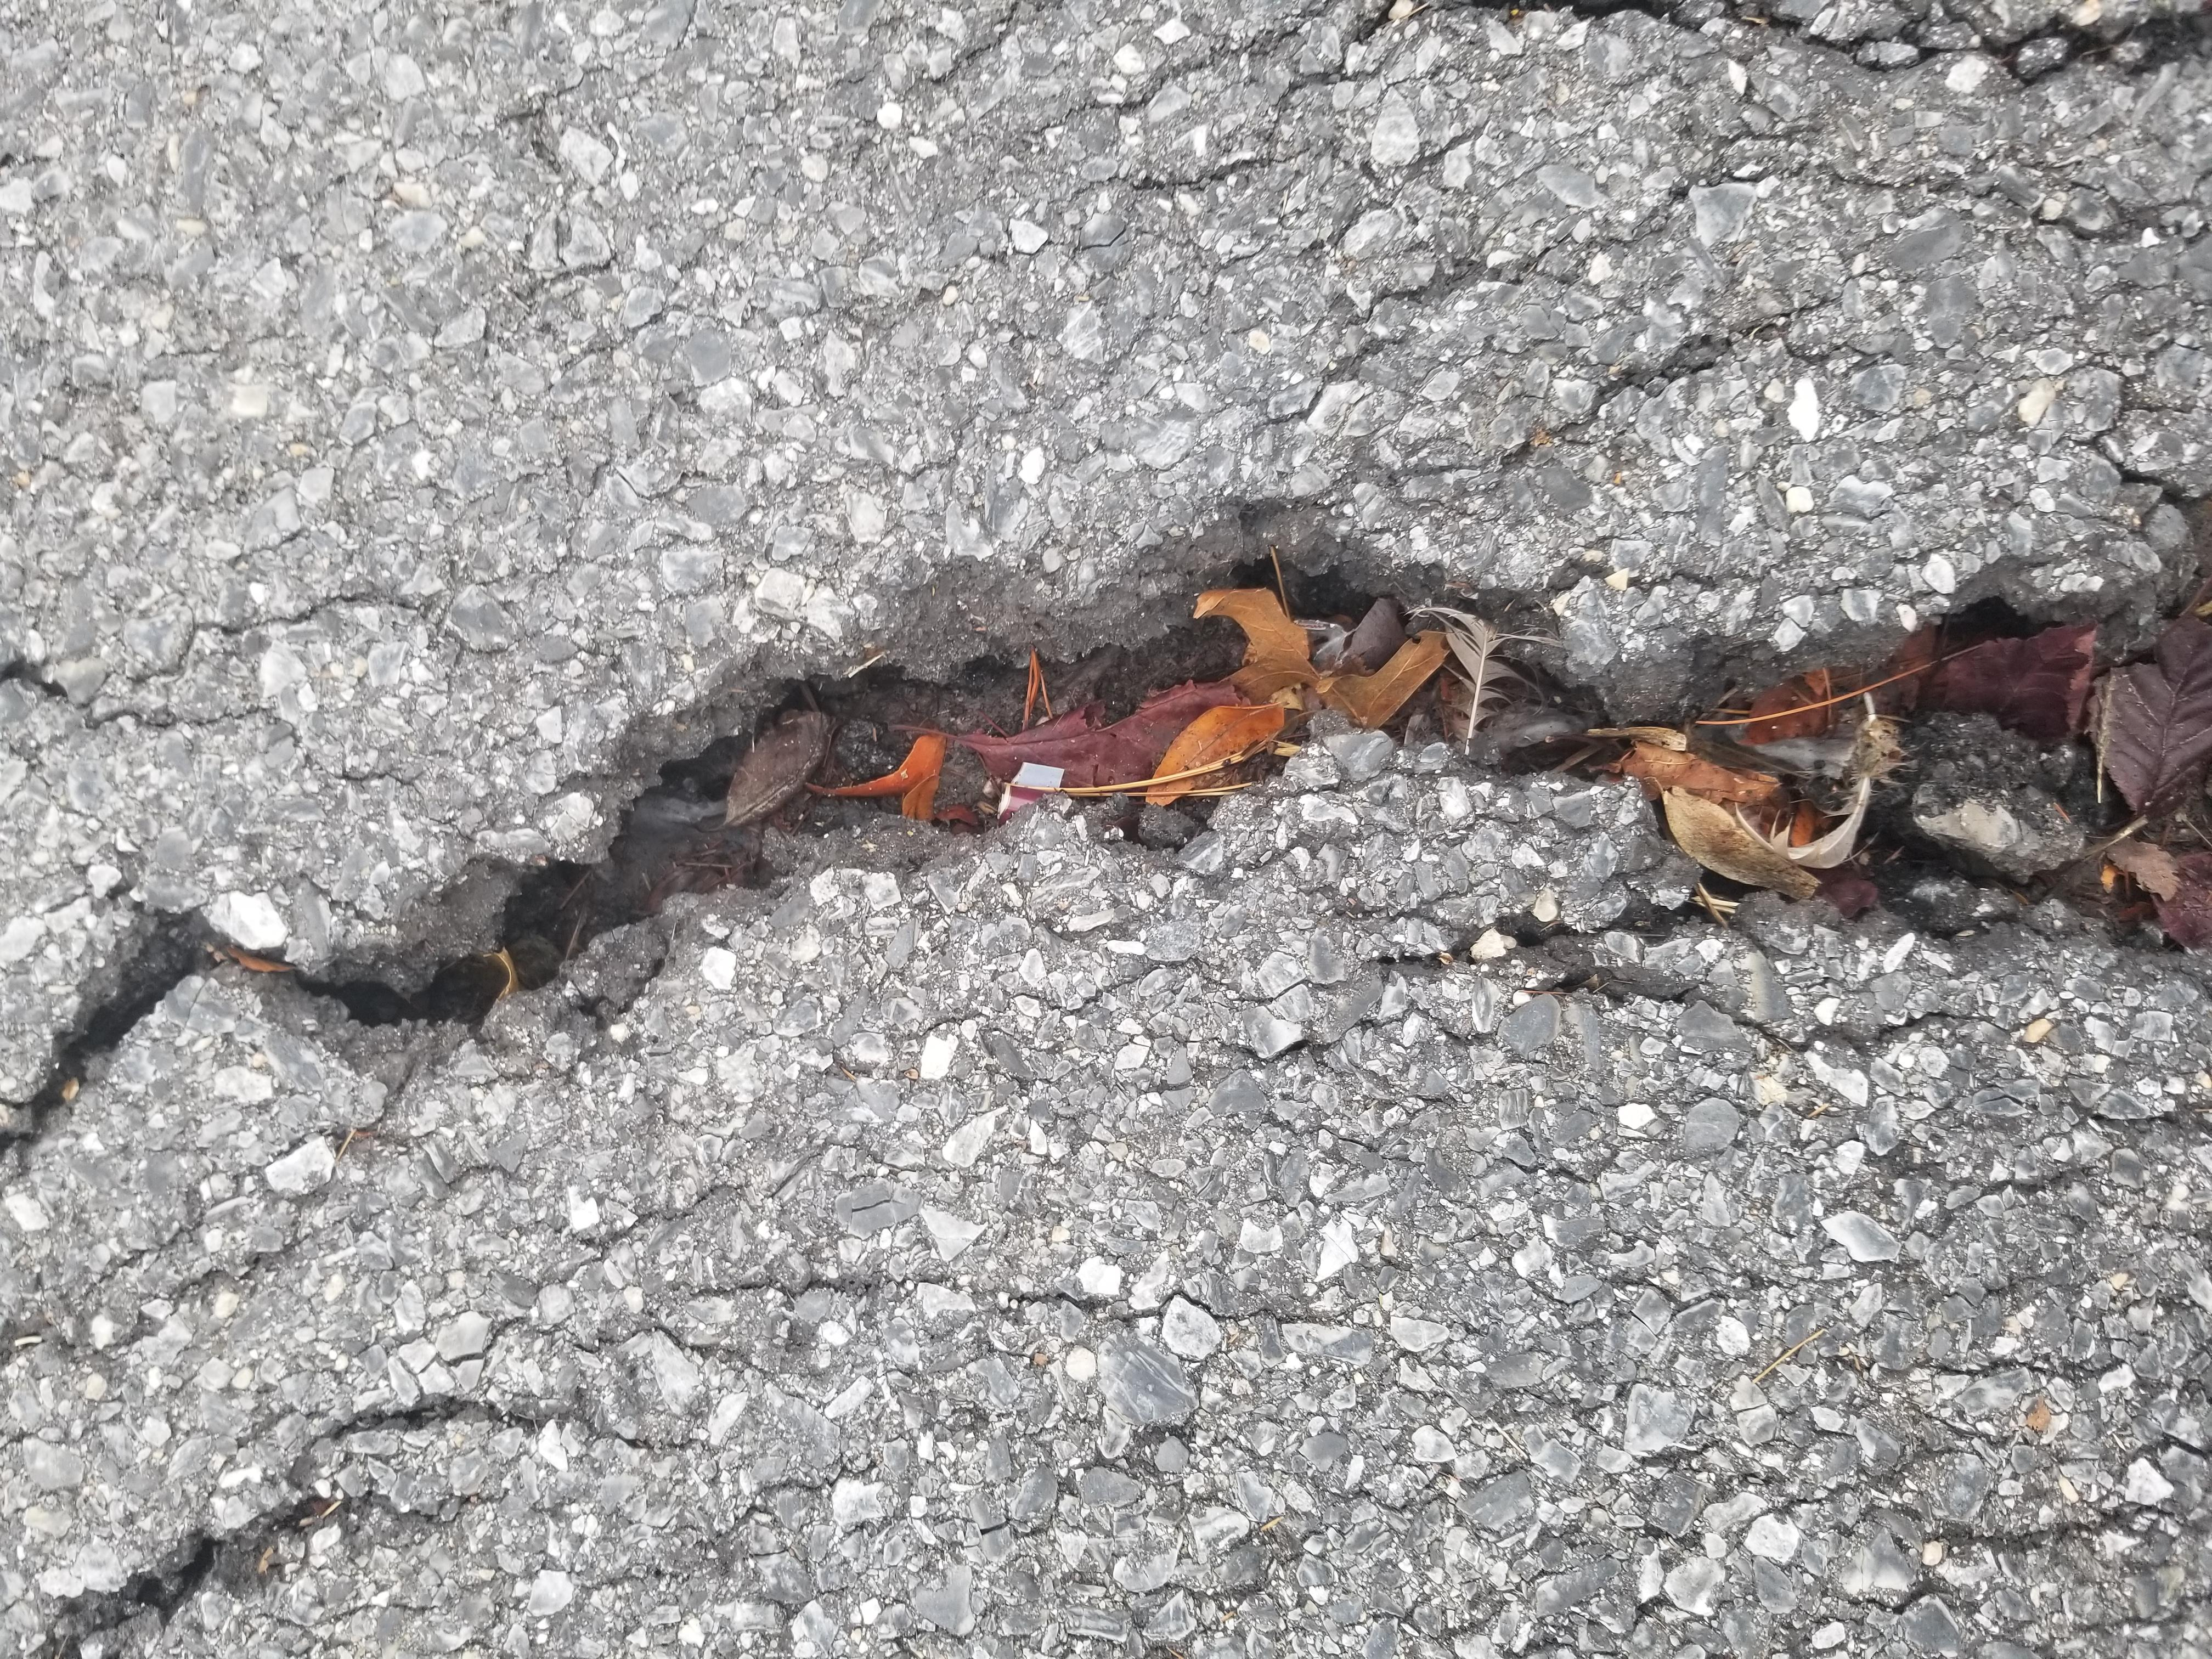crack: (622, 24, 1660, 1600)
